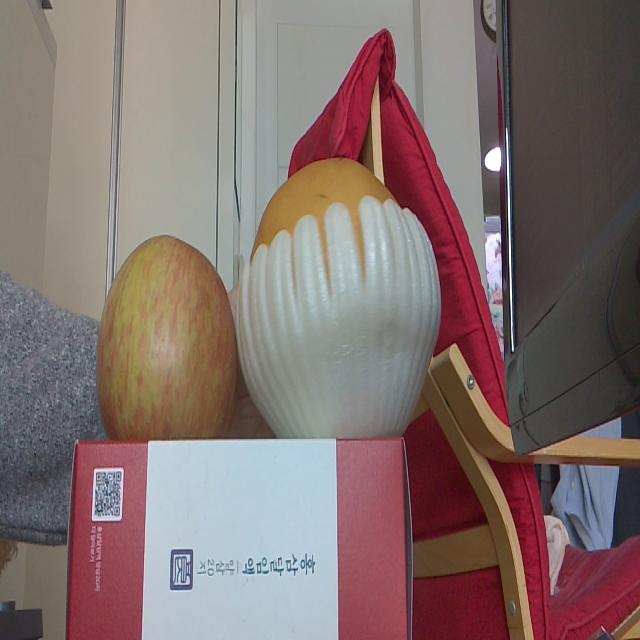apple: (95, 233, 241, 439)
pear: (244, 147, 439, 439)
